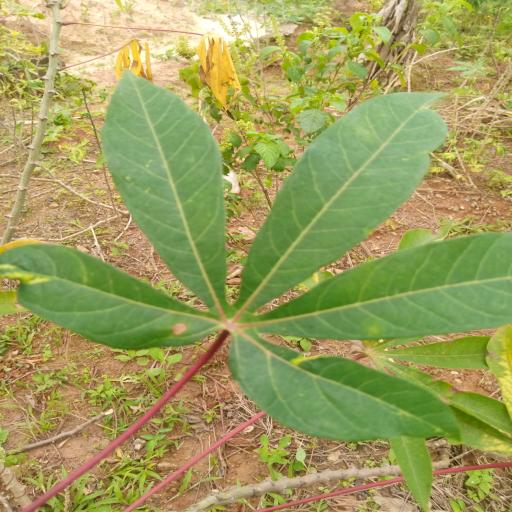Cassava_Brown_Leaf_Spot: (0, 68, 512, 444)
